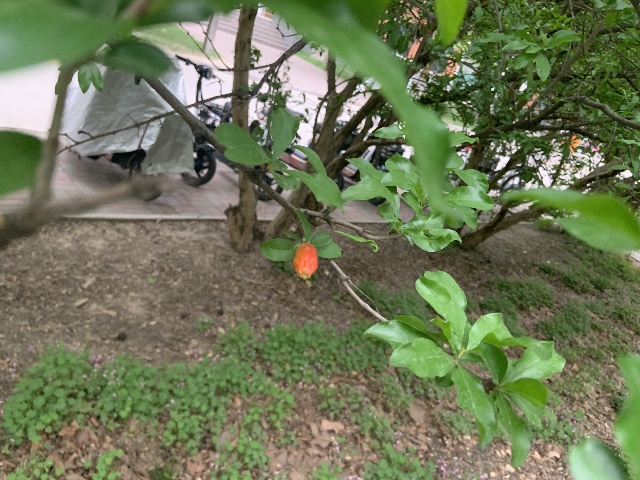bud: (293, 242, 318, 279)
